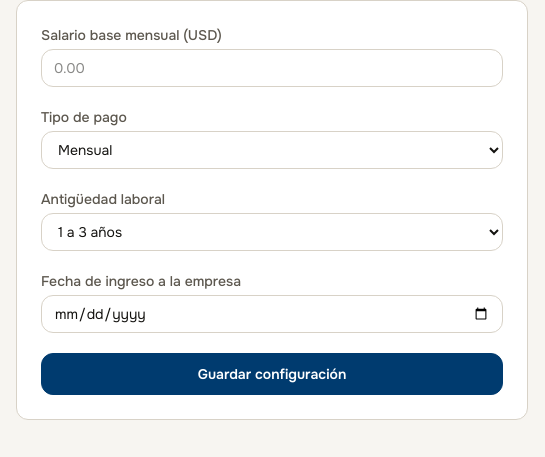
Scenario: ConfigInicial › muestra error para salarioBase > 100000
This screenshot has width=545, height=457.
In the number field labelled "Salario base mensual (USD)": (272, 68) [41,49,503,87], type "200000"
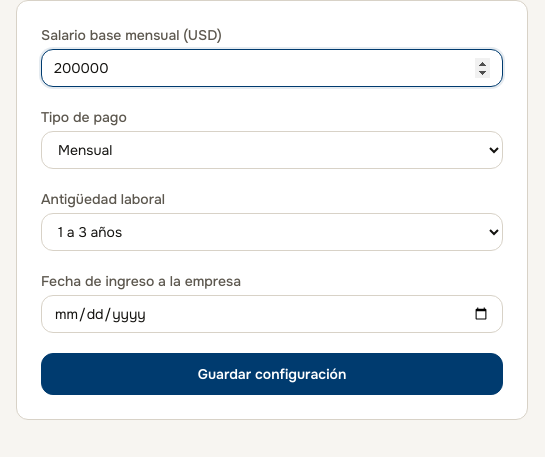
Click the button "Guardar configuración": (272, 374) [41,353,503,395]
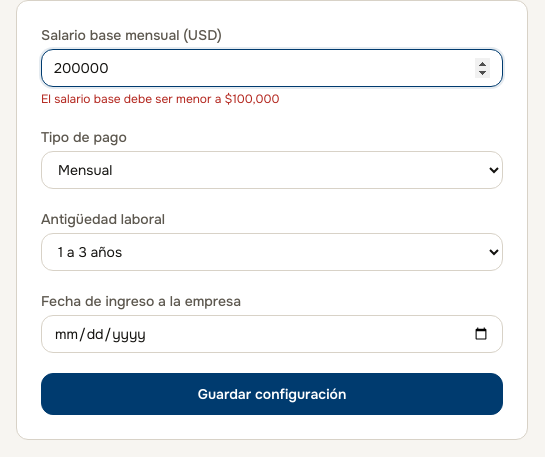
Result: the text "El salario base debe ser menor a $100,000" is shown at [41,91,279,107]
